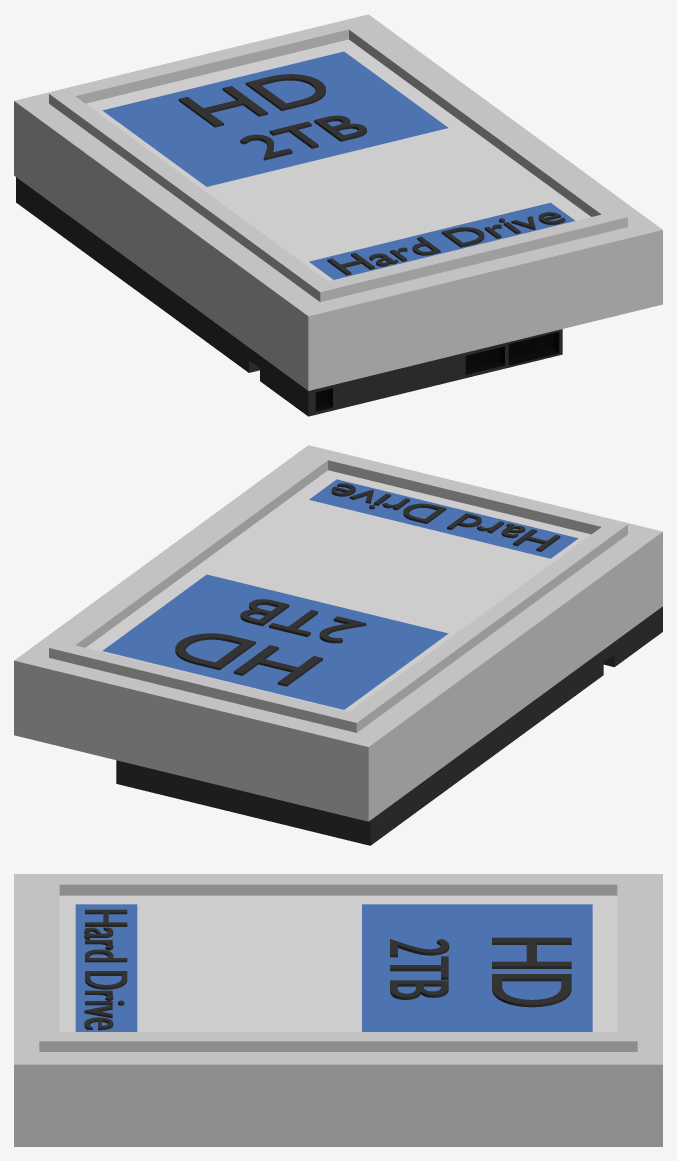
File: High lvl hard drive.fbx
3 renders of one model, top to bottom at view 1: azimuth 30°, elevation 25°; view 2: azimuth 150°, elevation 25°; view 3: azimuth 270°, elevation 25°, orthographic. The views are drawn at different scales.
Parts seen in each view (by area): view 1: Cube.009, Cube.001, Retopo_Text, Retopo_Text.001, Retopo_Text.002; view 2: Cube.009, Cube.001, Retopo_Text, Retopo_Text.001, Retopo_Text.002; view 3: Cube.009, Retopo_Text, Retopo_Text.001, Retopo_Text.002.
Part boxes in pixels (bbox=[...]): Cube.009: bbox=[14, 14, 662, 390]; Cube.001: bbox=[16, 177, 562, 416]; Retopo_Text: bbox=[178, 74, 325, 127]; Retopo_Text.001: bbox=[327, 212, 565, 275]; Retopo_Text.002: bbox=[240, 115, 366, 160]; Cube.009: bbox=[14, 445, 662, 821]; Cube.001: bbox=[116, 606, 662, 845]; Retopo_Text: bbox=[175, 633, 322, 686]; Retopo_Text.001: bbox=[331, 483, 560, 551]; Retopo_Text.002: bbox=[240, 599, 366, 643]; Cube.009: bbox=[14, 874, 662, 1146]; Retopo_Text: bbox=[492, 937, 571, 1007]; Retopo_Text.001: bbox=[84, 909, 127, 1030]; Retopo_Text.002: bbox=[390, 939, 449, 999].
Bounding box in the file's own units: 186 × 55.38 × 268.
